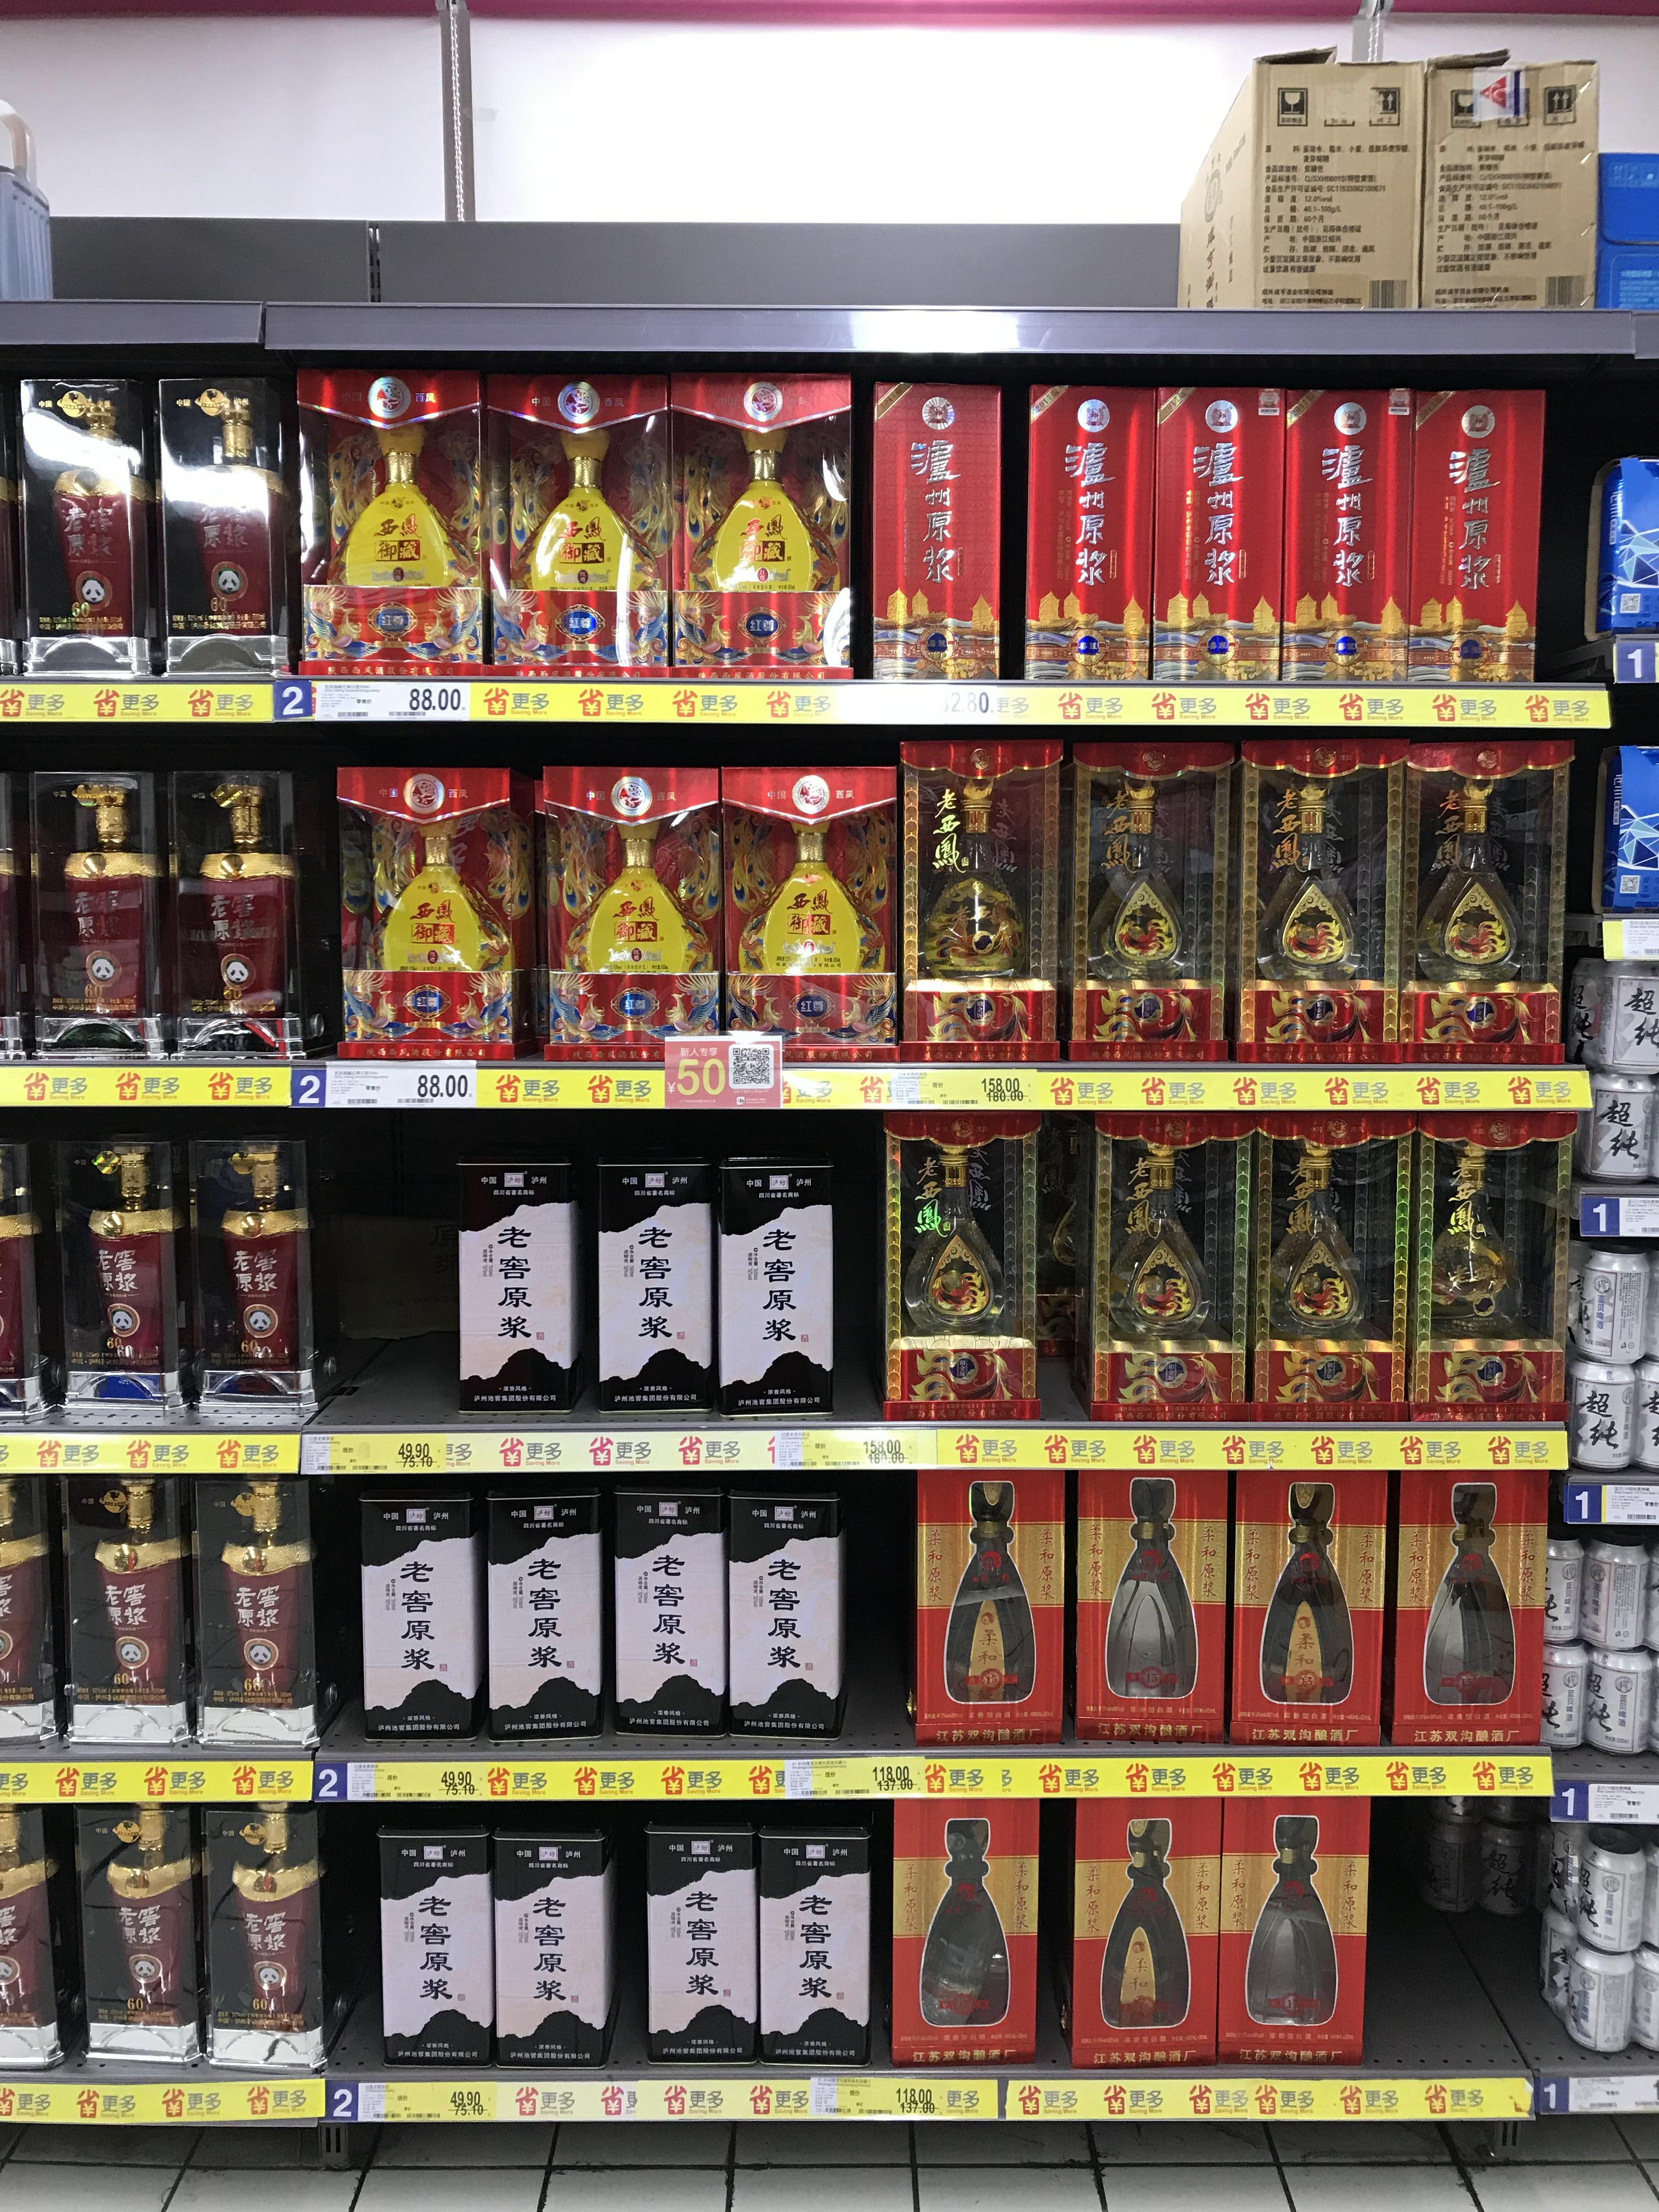bag: (723, 737, 899, 1066), (1230, 745, 1378, 1055), (685, 388, 833, 686), (500, 381, 641, 686), (885, 1122, 1021, 1414), (345, 392, 474, 681), (28, 378, 139, 674), (166, 397, 272, 669), (213, 1789, 317, 2047), (98, 1797, 200, 2050)
bottle: (1410, 737, 1572, 1071), (1094, 1120, 1230, 1420), (486, 1461, 606, 1745), (1080, 1463, 1197, 1750), (179, 1141, 308, 1399), (711, 1153, 836, 1416), (612, 1465, 727, 1743), (932, 1460, 1040, 1756), (734, 1468, 845, 1745), (755, 1810, 873, 2069), (899, 1804, 1016, 2066), (1239, 1470, 1345, 1749), (178, 779, 284, 1055), (1082, 1811, 1194, 2066), (1417, 1477, 1514, 1749), (54, 782, 148, 1055), (1236, 1803, 1335, 2059), (1467, 1486, 1549, 1747), (1471, 1787, 1537, 1921)
box: (1173, 44, 1425, 319), (1417, 1109, 1568, 1433), (863, 368, 1004, 686), (549, 780, 701, 1069), (1070, 756, 1213, 1057), (1276, 373, 1408, 686), (1406, 371, 1535, 686), (1255, 1120, 1387, 1421), (1157, 376, 1283, 691), (28, 1144, 174, 1411), (188, 1482, 319, 1752), (1030, 378, 1147, 678), (917, 761, 1035, 1049), (61, 1482, 188, 1747)
bucket: (1563, 1815, 1647, 2029)
jar: (453, 1153, 591, 1418), (357, 1456, 483, 1745), (490, 1806, 620, 2071), (636, 1801, 763, 2067), (598, 1155, 718, 1414), (378, 1811, 495, 2067), (1558, 1348, 1638, 1472), (1577, 1646, 1657, 1754), (1575, 1533, 1649, 1648), (1450, 617, 1502, 693), (1405, 617, 1457, 691)
others: (1419, 49, 1617, 314), (354, 782, 526, 1068)
